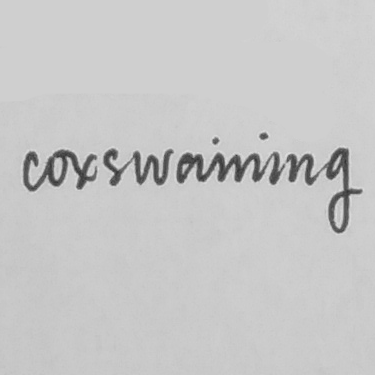a: (174, 149, 207, 186)
c: (20, 147, 42, 193)
g: (323, 145, 353, 235)
i: (208, 135, 230, 185), (263, 134, 283, 186)
n: (285, 149, 316, 187), (231, 150, 262, 184)
o: (44, 148, 70, 190)
s: (100, 145, 123, 188)
w: (131, 145, 173, 188)
x: (70, 149, 99, 192)
